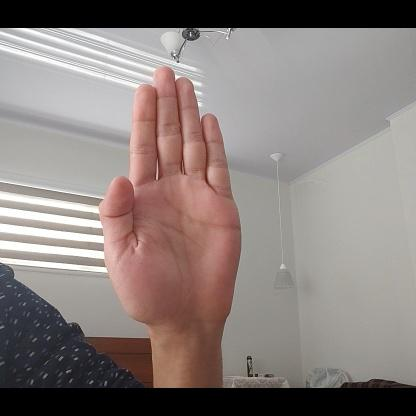B: (96, 64, 243, 331)
